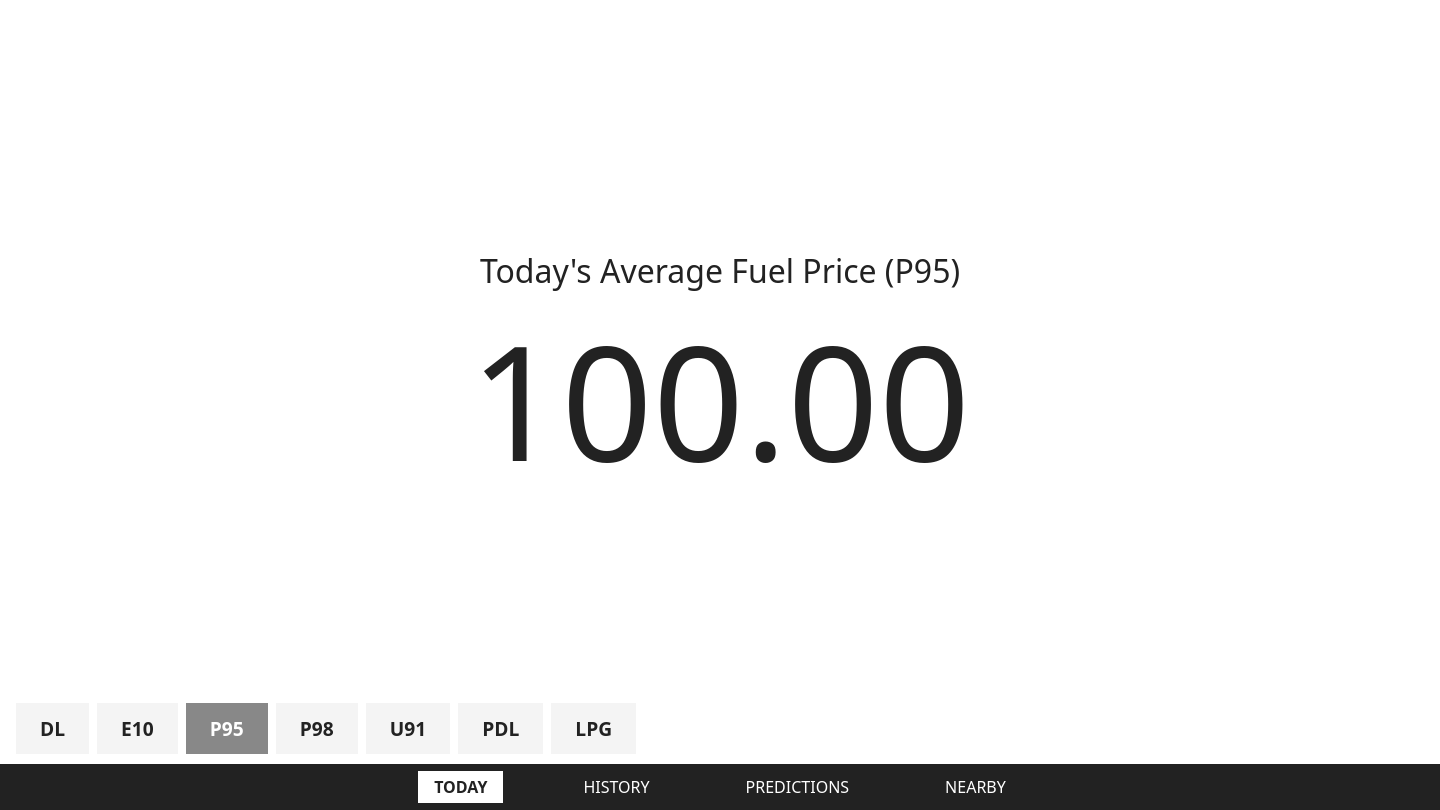
updates average price when a different fuel type is selected
expect the text "100.00" is shown: met, box 470,319 -> 970,479
Click the button "E10". click: (137,728)
box: 97,703 -> 178,754
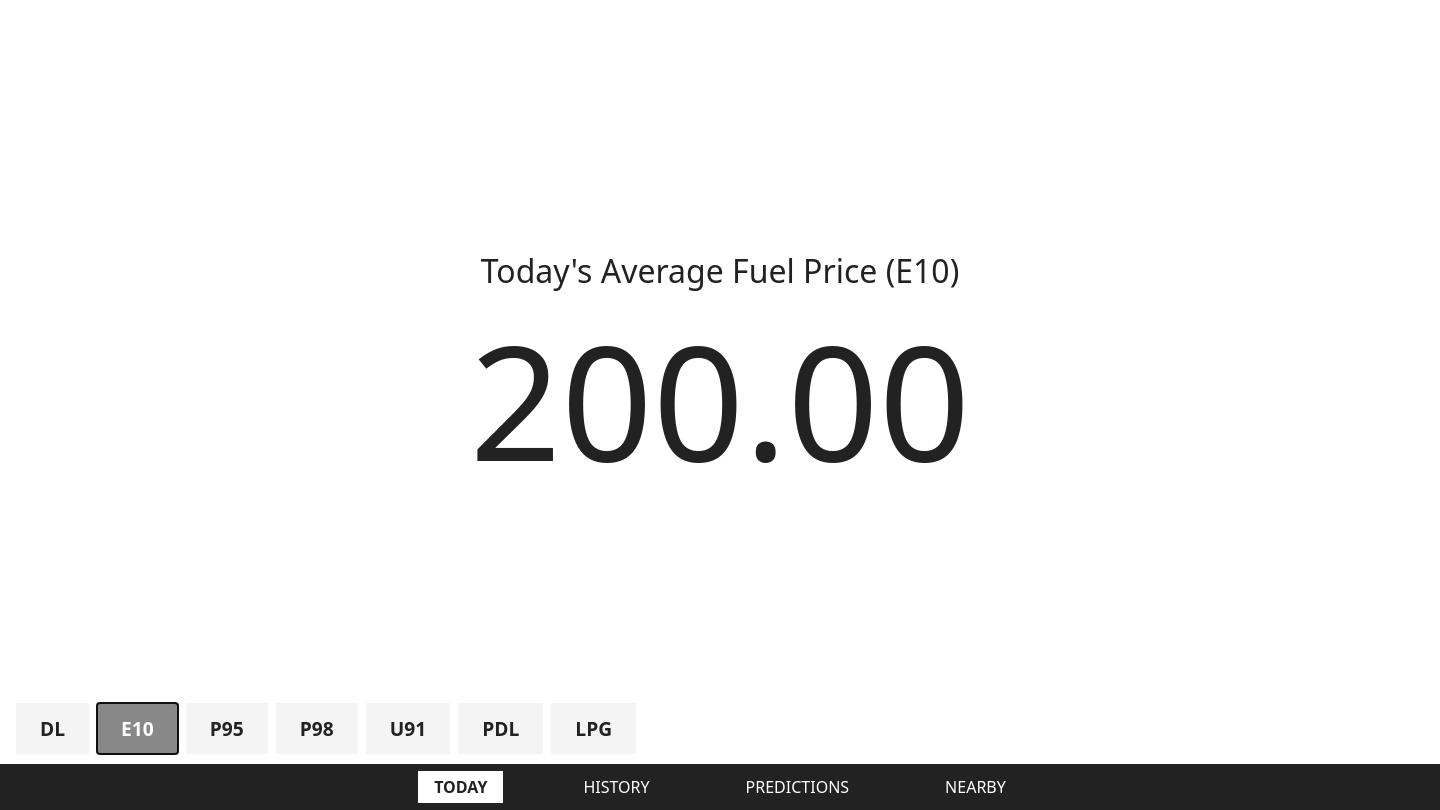
expect the text "200.00" is shown: met, box 470,319 -> 970,479
